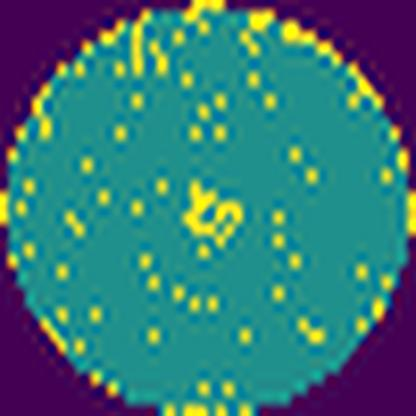Center: (184, 180, 244, 248)
